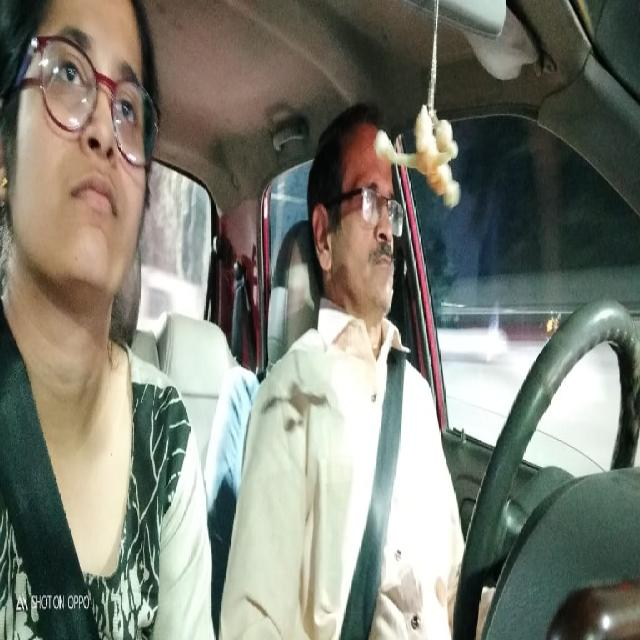person: (0, 2, 160, 357), (303, 101, 408, 332)
